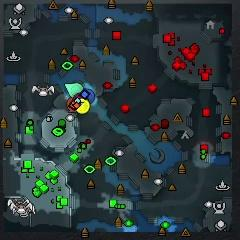p1: (81, 89, 95, 102)
p2: (63, 82, 83, 99)
p4: (76, 98, 90, 115)
p5: (66, 98, 78, 115)
